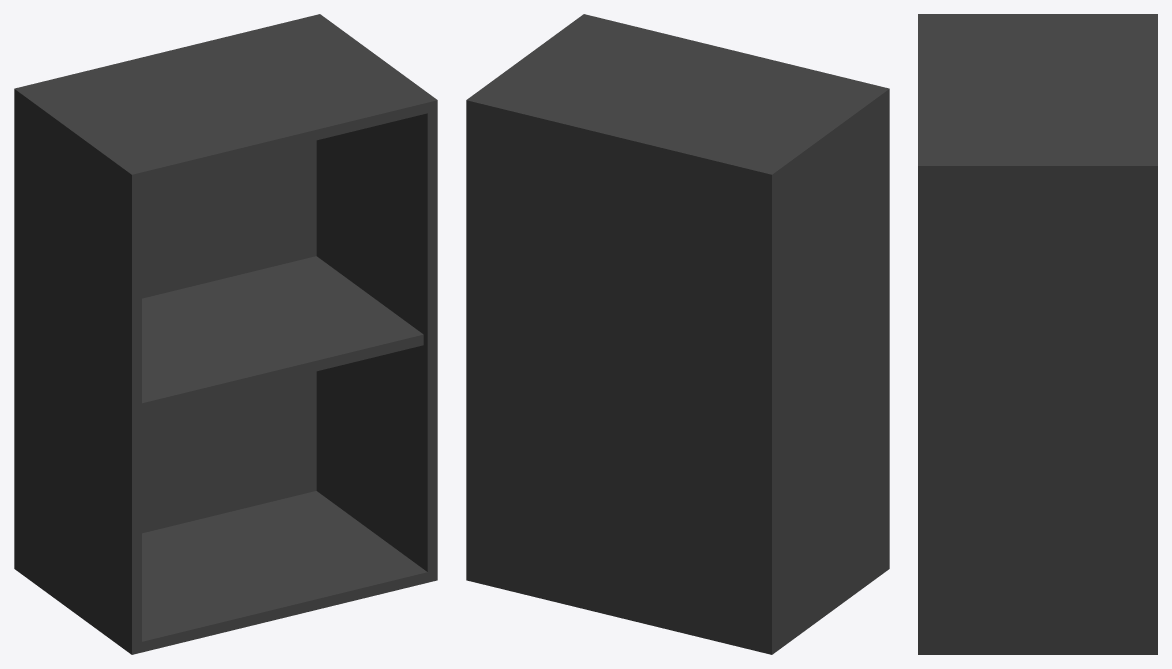
File: Kitchen1_C3_08.fbx
3 views of the same model, side by side, from view 1: azimuth 30°, elevation 25°; view 2: azimuth 150°, elevation 25°; view 3: azimuth 270°, elevation 25° (orthographic).
Parts seen in each view (by area): view 1: Kitchen1_C3_08; view 2: Kitchen1_C3_08; view 3: Kitchen1_C3_08.
Part boxes in pixels (<box>): Kitchen1_C3_08: <box>14,14,437,654</box>; Kitchen1_C3_08: <box>466,14,889,654</box>; Kitchen1_C3_08: <box>918,14,1157,654</box>.
Bounding box in the file's own units: 60 × 90 × 40.
